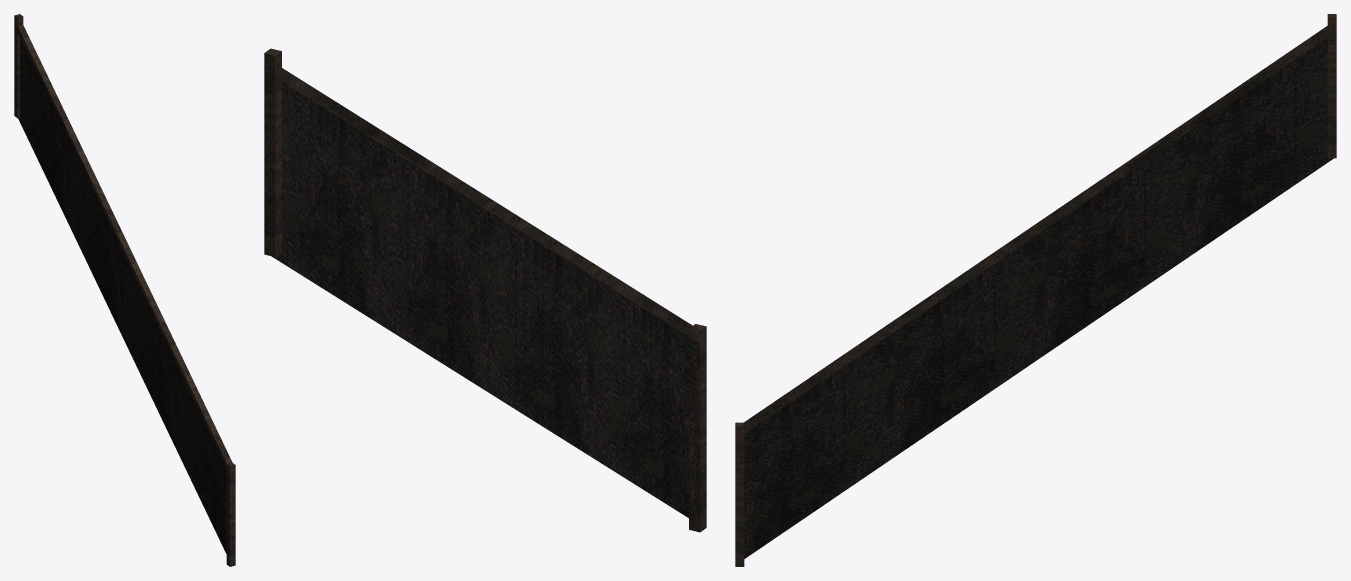
Rendered from stair_straight_rail_r.gltf.
3 renders of one model, left to right at view 1: azimuth 30°, elevation 25°; view 2: azimuth 150°, elevation 25°; view 3: azimuth 270°, elevation 25°, orthographic. The views are drawn at different scales.
Visible parts, largest first — view 1: stair_straight_rail_r; view 2: stair_straight_rail_r; view 3: stair_straight_rail_r.
Part boxes in pixels (box(x1,y1,x2,y2)): stair_straight_rail_r: box(14, 14, 235, 566); stair_straight_rail_r: box(264, 48, 706, 532); stair_straight_rail_r: box(735, 14, 1336, 566).
Size of what is drawn, in the model's own units: 0.06 by 4.03 by 4.
Materials: 2 (2 with a texture image).
